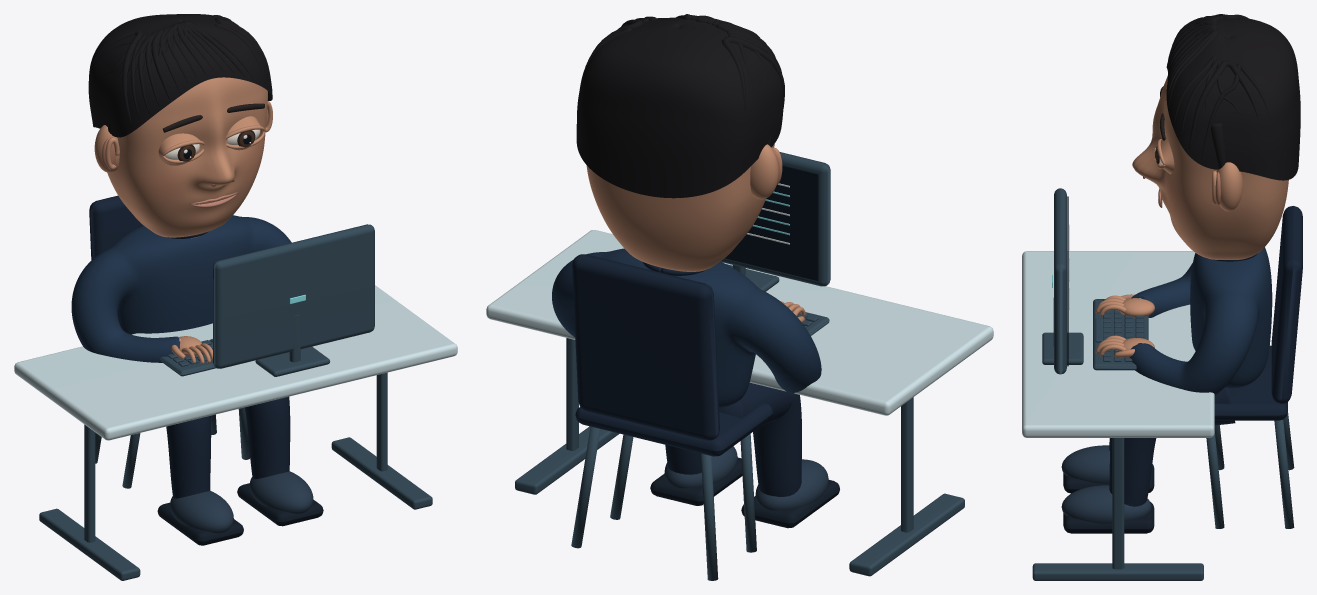
The model's file is jhoandry-developer.glb.
The picture shows the model from 3 angles, left to right: view 1: azimuth 30°, elevation 25°; view 2: azimuth 150°, elevation 25°; view 3: azimuth 270°, elevation 25°; orthographic projection. The views are drawn at different scales.
Parts seen in each view (by area): view 1: Workstation Brushed slate metal, Desk top, Continuous soft sweater, Sculpted oval face, HeadPivot Swept black hair, Body Jacket lapels and trousers, Body Graphite shoes, Body Shoe soles, Workstation Jacket lapels and trousers, HeadPivot Tan hands and neck, EyeLeft Tan hands and neck, HandLeft Tan hands and neck (+1 smaller); view 2: HeadPivot Swept black hair, Workstation Jacket lapels and trousers, Desk top, Workstation Brushed slate metal, Continuous soft sweater, Sculpted oval face, Monitor display, Body Jacket lapels and trousers, Body Graphite shoes, Body Shoe soles, HeadPivot Tan hands and neck; view 3: Desk top, HeadPivot Swept black hair, Continuous soft sweater, Workstation Brushed slate metal, Sculpted oval face, Workstation Jacket lapels and trousers, Body Graphite shoes, Body Jacket lapels and trousers, Body Shoe soles, Workstation Keyboard keys, HeadPivot Tan hands and neck, HandLeft Tan hands and neck (+2 smaller).
Boxes of the visible parts, x1=… form: Workstation Brushed slate metal: x1=39, y1=224, x2=432, y2=580; Desk top: x1=14, y1=285, x2=457, y2=440; Continuous soft sweater: x1=71, y1=215, x2=291, y2=362; Sculpted oval face: x1=107, y1=77, x2=267, y2=237; HeadPivot Swept black hair: x1=88, y1=14, x2=272, y2=137; Body Jacket lapels and trousers: x1=166, y1=231, x2=290, y2=498; Body Graphite shoes: x1=170, y1=471, x2=313, y2=533; Body Shoe soles: x1=157, y1=483, x2=323, y2=545; Workstation Jacket lapels and trousers: x1=89, y1=195, x2=143, y2=260; HeadPivot Tan hands and neck: x1=94, y1=101, x2=272, y2=172; EyeLeft Tan hands and neck: x1=158, y1=133, x2=204, y2=165; HandLeft Tan hands and neck: x1=171, y1=336, x2=212, y2=363; HeadPivot Swept black hair: x1=576, y1=14, x2=784, y2=198; Workstation Jacket lapels and trousers: x1=572, y1=254, x2=773, y2=456; Desk top: x1=486, y1=230, x2=993, y2=415; Workstation Brushed slate metal: x1=515, y1=152, x2=964, y2=580; Continuous soft sweater: x1=552, y1=248, x2=821, y2=408; Sculpted oval face: x1=586, y1=144, x2=774, y2=271; Monitor display: x1=725, y1=165, x2=818, y2=280; Body Jacket lapels and trousers: x1=642, y1=262, x2=801, y2=496; Body Graphite shoes: x1=664, y1=446, x2=828, y2=510; Body Shoe soles: x1=650, y1=457, x2=839, y2=528; HeadPivot Tan hands and neck: x1=750, y1=144, x2=782, y2=199; Desk top: x1=1022, y1=251, x2=1214, y2=437; HeadPivot Swept black hair: x1=1166, y1=14, x2=1300, y2=180; Continuous soft sweater: x1=1129, y1=247, x2=1272, y2=395; Workstation Brushed slate metal: x1=1032, y1=188, x2=1294, y2=580; Sculpted oval face: x1=1132, y1=75, x2=1288, y2=259; Workstation Jacket lapels and trousers: x1=1214, y1=206, x2=1302, y2=420; Body Graphite shoes: x1=1061, y1=445, x2=1151, y2=523; Body Jacket lapels and trousers: x1=1109, y1=253, x2=1257, y2=506; Body Shoe soles: x1=1063, y1=464, x2=1154, y2=533; Workstation Keyboard keys: x1=1095, y1=299, x2=1143, y2=361; HeadPivot Tan hands and neck: x1=1212, y1=162, x2=1242, y2=211; HandLeft Tan hands and neck: x1=1095, y1=294, x2=1154, y2=317.
Bounding box in the file's own units: 3.55 × 4.43 × 2.38.
